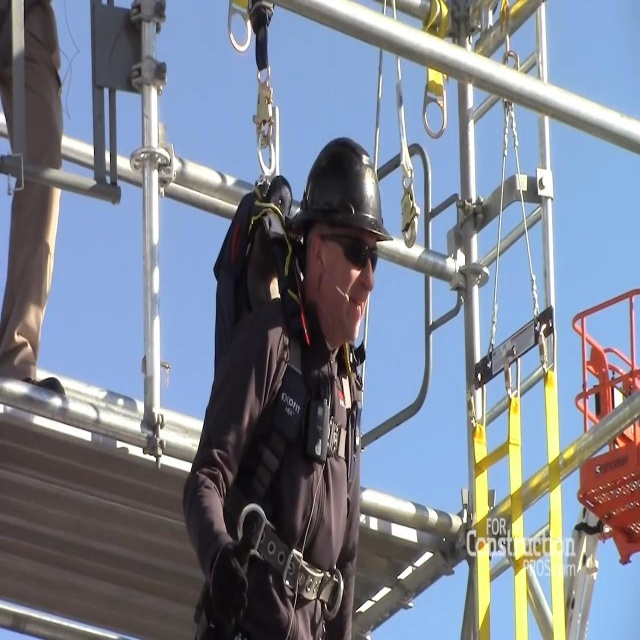Arnes_seguridad: (173, 172, 384, 640)
